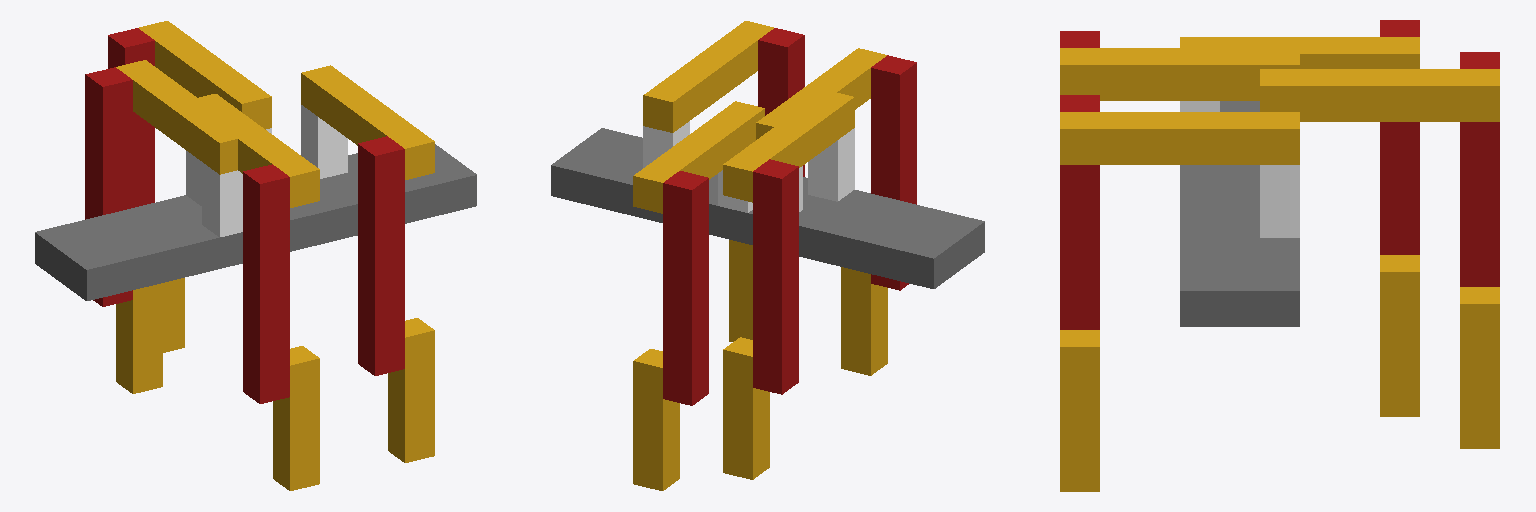
robot.urdf — v0:
<?xml version="1.0" encoding="utf-8"?>
<!-- =================================================================================== -->
<!-- |    This document was autogenerated by xacro from ../robots/v0variants/xacros/v0_4l_29.xacro | -->
<!-- |    EDITING THIS FILE BY HAND IS NOT RECOMMENDED                                 | -->
<!-- =================================================================================== -->
<robot name="v0">
  <material name="grey">
    <color rgba="0.5 0.5 0.5 1"/>
  </material>
  <material name="white">
    <color rgba="1 1 1 1"/>
  </material>
  <material name="yellow">
    <color rgba="0.91 0.7 0.14 1"/>
  </material>
  <material name="red">
    <color rgba="0.71 0.14 0.14 1"/>
  </material>
  <link name="body">
    <visual>
      <geometry>
        <box size="1.3 0.3 0.1"/>
      </geometry>
      <material name="grey"/>
      <origin rpy="0 0 0" xyz="0 0 0.7"/>
    </visual>
    <collision>
      <geometry>
        <box size="1.3 0.3 0.1"/>
      </geometry>
      <origin rpy="0 0 0" xyz="0 0 0.7"/>
    </collision>
    <inertial>
      <mass value="99.84"/>
      <inertia ixx="0.832" ixy="0.0" ixz="0.0" iyy="14.144" iyz="0.0" izz="14.8096"/>
    </inertial>
  </link>
  <link name="l1_segment_1">
    <visual>
      <geometry>
        <box size="0.1 0.1 0.2"/>
      </geometry>
      <material name="white"/>
      <origin rpy="0 0 0" xyz="0 0 0.1"/>
    </visual>
    <collision>
      <geometry>
        <box size="0.1 0.1 0.2"/>
      </geometry>
      <origin rpy="0 0 0" xyz="0 0 0.1"/>
    </collision>
    <inertial>
      <mass value="5.12"/>
      <inertia ixx="0.0213333333333" ixy="0.0" ixz="0.0" iyy="0.0213333333333" iyz="0.0" izz="0.00853333333333"/>
    </inertial>
  </link>
  <joint name="l1_base_to_joint_1" type="fixed">
    <parent link="body"/>
    <child link="l1_segment_1"/>
    <origin rpy="0 0 0" xyz="-0.15754305093310222 -0.1 0.75"/>
  </joint>
  <link name="l1_segment_2_HIP">
    <visual>
      <geometry>
        <box size="0.1 0.6 0.1"/>
      </geometry>
      <material name="yellow"/>
      <origin rpy="0 0 0" xyz="0 0.25 0"/>
    </visual>
    <collision>
      <geometry>
        <box size="0.1 0.6 0.1"/>
      </geometry>
      <origin rpy="0 0 0" xyz="0 0.25 0"/>
    </collision>
    <inertial>
      <mass value="15.36"/>
      <inertia ixx="0.4736" ixy="0.0" ixz="0.0" iyy="0.0256" iyz="0.0" izz="0.4736"/>
    </inertial>
  </link>
  <joint name="l1_joint_1_to_2" type="revolute">
    <parent link="l1_segment_1"/>
    <child link="l1_segment_2_HIP"/>
    <origin rpy="0 0 0" xyz="0 0 0.25"/>
    <axis xyz="0.0 0.0 1.0"/>
    <limit effort="2048" lower="-1.2" upper="1.2" velocity="20"/>
  </joint>
  <link name="l1_segment_3_THIGH">
    <visual>
      <geometry>
        <box size="0.1 0.1 0.7"/>
      </geometry>
      <material name="red"/>
      <origin rpy="0 0 0" xyz="0 0 -0.3"/>
    </visual>
    <collision>
      <geometry>
        <box size="0.1 0.1 0.7"/>
      </geometry>
      <origin rpy="0 0 0" xyz="0 0 -0.3"/>
    </collision>
    <inertial>
      <mass value="17.92"/>
      <inertia ixx="0.746666666667" ixy="0.0" ixz="0.0" iyy="0.746666666667" iyz="0.0" izz="0.0298666666667"/>
    </inertial>
  </link>
  <joint name="l1_joint_2_to_3" type="revolute">
    <parent link="l1_segment_2_HIP"/>
    <child link="l1_segment_3_THIGH"/>
    <origin rpy="0 0 0" xyz="-0.1 0.5 0"/>
    <axis xyz="1.0 0.0 0.0"/>
    <limit effort="2048" lower="-0.2" upper="0.75" velocity="20"/>
  </joint>
  <link name="l1_segment_4_FOOT">
    <visual>
      <geometry>
        <box size="0.1 0.1 0.4"/>
      </geometry>
      <material name="yellow"/>
      <origin rpy="0 0 0" xyz="0 0 -0.2"/>
    </visual>
    <collision>
      <geometry>
        <box size="0.1 0.1 0.4"/>
      </geometry>
      <origin rpy="0 0 0" xyz="0 0 -0.2"/>
    </collision>
    <inertial>
      <mass value="10.24"/>
      <inertia ixx="0.145066666667" ixy="0.0" ixz="0.0" iyy="0.145066666667" iyz="0.0" izz="0.0170666666667"/>
    </inertial>
  </link>
  <joint name="l1_joint_3_to_4_FOOT" type="revolute">
    <parent link="l1_segment_3_THIGH"/>
    <child link="l1_segment_4_FOOT"/>
    <origin rpy="0 0 0" xyz="0.1 0 -0.55"/>
    <axis xyz="1.0 0.0 0.0"/>
    <limit effort="2048" lower="-0.2" upper="0.5" velocity="20"/>
  </joint>
  <link name="r2_segment_1">
    <visual>
      <geometry>
        <box size="0.1 0.1 0.2"/>
      </geometry>
      <material name="white"/>
      <origin rpy="0 0 0" xyz="0 0 0.1"/>
    </visual>
    <collision>
      <geometry>
        <box size="0.1 0.1 0.2"/>
      </geometry>
      <origin rpy="0 0 0" xyz="0 0 0.1"/>
    </collision>
    <inertial>
      <mass value="5.12"/>
      <inertia ixx="0.0213333333333" ixy="0.0" ixz="0.0" iyy="0.0213333333333" iyz="0.0" izz="0.00853333333333"/>
    </inertial>
  </link>
  <joint name="r2_base_to_joint_1" type="fixed">
    <parent link="body"/>
    <child link="r2_segment_1"/>
    <origin rpy="0 0 0" xyz="-0.09649514545152094 0.1 0.75"/>
  </joint>
  <link name="r2_segment_2_HIP">
    <visual>
      <geometry>
        <box size="0.1 0.6 0.1"/>
      </geometry>
      <material name="yellow"/>
      <origin rpy="0 0 0" xyz="0 -0.25 0"/>
    </visual>
    <collision>
      <geometry>
        <box size="0.1 0.6 0.1"/>
      </geometry>
      <origin rpy="0 0 0" xyz="0 -0.25 0"/>
    </collision>
    <inertial>
      <mass value="15.36"/>
      <inertia ixx="0.4736" ixy="0.0" ixz="0.0" iyy="0.0256" iyz="0.0" izz="0.4736"/>
    </inertial>
  </link>
  <joint name="r2_joint_1_to_2" type="revolute">
    <parent link="r2_segment_1"/>
    <child link="r2_segment_2_HIP"/>
    <origin rpy="0 0 0" xyz="0 0 0.25"/>
    <axis xyz="0.0 0.0 1.0"/>
    <limit effort="2048" lower="-1.2" upper="1.2" velocity="20"/>
  </joint>
  <link name="r2_segment_3_THIGH">
    <visual>
      <geometry>
        <box size="0.1 0.1 0.7"/>
      </geometry>
      <material name="red"/>
      <origin rpy="0 0 0" xyz="0 0 -0.3"/>
    </visual>
    <collision>
      <geometry>
        <box size="0.1 0.1 0.7"/>
      </geometry>
      <origin rpy="0 0 0" xyz="0 0 -0.3"/>
    </collision>
    <inertial>
      <mass value="17.92"/>
      <inertia ixx="0.746666666667" ixy="0.0" ixz="0.0" iyy="0.746666666667" iyz="0.0" izz="0.0298666666667"/>
    </inertial>
  </link>
  <joint name="r2_joint_2_to_3" type="revolute">
    <parent link="r2_segment_2_HIP"/>
    <child link="r2_segment_3_THIGH"/>
    <origin rpy="0 0 0" xyz="-0.1 -0.5 0"/>
    <axis xyz="1.0 0.0 0.0"/>
    <limit effort="2048" lower="-0.75" upper="0.2" velocity="20"/>
  </joint>
  <link name="r2_segment_4_FOOT">
    <visual>
      <geometry>
        <box size="0.1 0.1 0.4"/>
      </geometry>
      <material name="yellow"/>
      <origin rpy="0 0 0" xyz="0 0 -0.2"/>
    </visual>
    <collision>
      <geometry>
        <box size="0.1 0.1 0.4"/>
      </geometry>
      <origin rpy="0 0 0" xyz="0 0 -0.2"/>
    </collision>
    <inertial>
      <mass value="10.24"/>
      <inertia ixx="0.145066666667" ixy="0.0" ixz="0.0" iyy="0.145066666667" iyz="0.0" izz="0.0170666666667"/>
    </inertial>
  </link>
  <joint name="r2_joint_3_to_4_FOOT" type="revolute">
    <parent link="r2_segment_3_THIGH"/>
    <child link="r2_segment_4_FOOT"/>
    <origin rpy="0 0 0" xyz="0.1 0 -0.55"/>
    <axis xyz="1.0 0.0 0.0"/>
    <limit effort="2048" lower="-0.5" upper="0.2" velocity="20"/>
  </joint>
  <link name="l3_segment_1">
    <visual>
      <geometry>
        <box size="0.1 0.1 0.2"/>
      </geometry>
      <material name="white"/>
      <origin rpy="0 0 0" xyz="0 0 0.1"/>
    </visual>
    <collision>
      <geometry>
        <box size="0.1 0.1 0.2"/>
      </geometry>
      <origin rpy="0 0 0" xyz="0 0 0.1"/>
    </collision>
    <inertial>
      <mass value="5.12"/>
      <inertia ixx="0.0213333333333" ixy="0.0" ixz="0.0" iyy="0.0213333333333" iyz="0.0" izz="0.00853333333333"/>
    </inertial>
  </link>
  <joint name="l3_base_to_joint_1" type="fixed">
    <parent link="body"/>
    <child link="l3_segment_1"/>
    <origin rpy="0 0 0" xyz="0.03155107960996914 0.1 0.75"/>
  </joint>
  <link name="l3_segment_2_HIP">
    <visual>
      <geometry>
        <box size="0.1 0.6 0.1"/>
      </geometry>
      <material name="yellow"/>
      <origin rpy="0 0 0" xyz="0 0.25 0"/>
    </visual>
    <collision>
      <geometry>
        <box size="0.1 0.6 0.1"/>
      </geometry>
      <origin rpy="0 0 0" xyz="0 0.25 0"/>
    </collision>
    <inertial>
      <mass value="15.36"/>
      <inertia ixx="0.4736" ixy="0.0" ixz="0.0" iyy="0.0256" iyz="0.0" izz="0.4736"/>
    </inertial>
  </link>
  <joint name="l3_joint_1_to_2" type="revolute">
    <parent link="l3_segment_1"/>
    <child link="l3_segment_2_HIP"/>
    <origin rpy="0 0 0" xyz="0 0 0.25"/>
    <axis xyz="0.0 0.0 1.0"/>
    <limit effort="2048" lower="-1.2" upper="1.2" velocity="20"/>
  </joint>
  <link name="l3_segment_3_THIGH">
    <visual>
      <geometry>
        <box size="0.1 0.1 0.7"/>
      </geometry>
      <material name="red"/>
      <origin rpy="0 0 0" xyz="0 0 -0.3"/>
    </visual>
    <collision>
      <geometry>
        <box size="0.1 0.1 0.7"/>
      </geometry>
      <origin rpy="0 0 0" xyz="0 0 -0.3"/>
    </collision>
    <inertial>
      <mass value="17.92"/>
      <inertia ixx="0.746666666667" ixy="0.0" ixz="0.0" iyy="0.746666666667" iyz="0.0" izz="0.0298666666667"/>
    </inertial>
  </link>
  <joint name="l3_joint_2_to_3" type="revolute">
    <parent link="l3_segment_2_HIP"/>
    <child link="l3_segment_3_THIGH"/>
    <origin rpy="0 0 0" xyz="-0.1 0.5 0"/>
    <axis xyz="1.0 0.0 0.0"/>
    <limit effort="2048" lower="-0.2" upper="0.75" velocity="20"/>
  </joint>
  <link name="l3_segment_4_FOOT">
    <visual>
      <geometry>
        <box size="0.1 0.1 0.4"/>
      </geometry>
      <material name="yellow"/>
      <origin rpy="0 0 0" xyz="0 0 -0.2"/>
    </visual>
    <collision>
      <geometry>
        <box size="0.1 0.1 0.4"/>
      </geometry>
      <origin rpy="0 0 0" xyz="0 0 -0.2"/>
    </collision>
    <inertial>
      <mass value="10.24"/>
      <inertia ixx="0.145066666667" ixy="0.0" ixz="0.0" iyy="0.145066666667" iyz="0.0" izz="0.0170666666667"/>
    </inertial>
  </link>
  <joint name="l3_joint_3_to_4_FOOT" type="revolute">
    <parent link="l3_segment_3_THIGH"/>
    <child link="l3_segment_4_FOOT"/>
    <origin rpy="0 0 0" xyz="0.1 0 -0.55"/>
    <axis xyz="1.0 0.0 0.0"/>
    <limit effort="2048" lower="-0.2" upper="0.5" velocity="20"/>
  </joint>
  <link name="r4_segment_1">
    <visual>
      <geometry>
        <box size="0.1 0.1 0.2"/>
      </geometry>
      <material name="white"/>
      <origin rpy="0 0 0" xyz="0 0 0.1"/>
    </visual>
    <collision>
      <geometry>
        <box size="0.1 0.1 0.2"/>
      </geometry>
      <origin rpy="0 0 0" xyz="0 0 0.1"/>
    </collision>
    <inertial>
      <mass value="5.12"/>
      <inertia ixx="0.0213333333333" ixy="0.0" ixz="0.0" iyy="0.0213333333333" iyz="0.0" izz="0.00853333333333"/>
    </inertial>
  </link>
  <joint name="r4_base_to_joint_1" type="fixed">
    <parent link="body"/>
    <child link="r4_segment_1"/>
    <origin rpy="0 0 0" xyz="0.28586735093128834 0.1 0.75"/>
  </joint>
  <link name="r4_segment_2_HIP">
    <visual>
      <geometry>
        <box size="0.1 0.6 0.1"/>
      </geometry>
      <material name="yellow"/>
      <origin rpy="0 0 0" xyz="0 -0.25 0"/>
    </visual>
    <collision>
      <geometry>
        <box size="0.1 0.6 0.1"/>
      </geometry>
      <origin rpy="0 0 0" xyz="0 -0.25 0"/>
    </collision>
    <inertial>
      <mass value="15.36"/>
      <inertia ixx="0.4736" ixy="0.0" ixz="0.0" iyy="0.0256" iyz="0.0" izz="0.4736"/>
    </inertial>
  </link>
  <joint name="r4_joint_1_to_2" type="revolute">
    <parent link="r4_segment_1"/>
    <child link="r4_segment_2_HIP"/>
    <origin rpy="0 0 0" xyz="0 0 0.25"/>
    <axis xyz="0.0 0.0 1.0"/>
    <limit effort="2048" lower="-1.2" upper="1.2" velocity="20"/>
  </joint>
  <link name="r4_segment_3_THIGH">
    <visual>
      <geometry>
        <box size="0.1 0.1 0.7"/>
      </geometry>
      <material name="red"/>
      <origin rpy="0 0 0" xyz="0 0 -0.3"/>
    </visual>
    <collision>
      <geometry>
        <box size="0.1 0.1 0.7"/>
      </geometry>
      <origin rpy="0 0 0" xyz="0 0 -0.3"/>
    </collision>
    <inertial>
      <mass value="17.92"/>
      <inertia ixx="0.746666666667" ixy="0.0" ixz="0.0" iyy="0.746666666667" iyz="0.0" izz="0.0298666666667"/>
    </inertial>
  </link>
  <joint name="r4_joint_2_to_3" type="revolute">
    <parent link="r4_segment_2_HIP"/>
    <child link="r4_segment_3_THIGH"/>
    <origin rpy="0 0 0" xyz="-0.1 -0.5 0"/>
    <axis xyz="1.0 0.0 0.0"/>
    <limit effort="2048" lower="-0.75" upper="0.2" velocity="20"/>
  </joint>
  <link name="r4_segment_4_FOOT">
    <visual>
      <geometry>
        <box size="0.1 0.1 0.4"/>
      </geometry>
      <material name="yellow"/>
      <origin rpy="0 0 0" xyz="0 0 -0.2"/>
    </visual>
    <collision>
      <geometry>
        <box size="0.1 0.1 0.4"/>
      </geometry>
      <origin rpy="0 0 0" xyz="0 0 -0.2"/>
    </collision>
    <inertial>
      <mass value="10.24"/>
      <inertia ixx="0.145066666667" ixy="0.0" ixz="0.0" iyy="0.145066666667" iyz="0.0" izz="0.0170666666667"/>
    </inertial>
  </link>
  <joint name="r4_joint_3_to_4_FOOT" type="revolute">
    <parent link="r4_segment_3_THIGH"/>
    <child link="r4_segment_4_FOOT"/>
    <origin rpy="0 0 0" xyz="0.1 0 -0.55"/>
    <axis xyz="1.0 0.0 0.0"/>
    <limit effort="2048" lower="-0.5" upper="0.2" velocity="20"/>
  </joint>
</robot>

--- Render facts (derived) ---
3 views of the same robot in one strip: view 1: azimuth 30°, elevation 25°; view 2: azimuth 150°, elevation 25°; view 3: azimuth 270°, elevation 25° (orthographic).
Robot: v0 — 17 links, 16 joints (12 revolute, 4 fixed); root link body; default pose: all joints at 0.
Visible links, largest first — view 1: body, r2_segment_3_THIGH, r4_segment_3_THIGH, l1_segment_3_THIGH, r4_segment_2_HIP, l1_segment_2_HIP, r2_segment_4_FOOT, r4_segment_4_FOOT, l3_segment_2_HIP, l1_segment_4_FOOT, r2_segment_2_HIP, l3_segment_3_THIGH (+4 smaller); view 2: body, l1_segment_3_THIGH, l3_segment_3_THIGH, r2_segment_3_THIGH, r4_segment_2_HIP, l1_segment_2_HIP, l3_segment_2_HIP, l1_segment_4_FOOT, l3_segment_4_FOOT, r2_segment_4_FOOT, r4_segment_3_THIGH, r2_segment_2_HIP (+3 smaller); view 3: body, r4_segment_2_HIP, l3_segment_2_HIP, r2_segment_2_HIP, l3_segment_3_THIGH, r4_segment_3_THIGH, l1_segment_4_FOOT, l3_segment_4_FOOT, r4_segment_4_FOOT, l1_segment_3_THIGH, l1_segment_2_HIP, r4_segment_1 (+1 smaller).
Link boxes in pixels (left/top/right/bottom): body: left=35, top=144, right=476, bottom=300; r2_segment_3_THIGH: left=243, top=164, right=289, bottom=403; r4_segment_3_THIGH: left=358, top=136, right=404, bottom=375; l1_segment_3_THIGH: left=85, top=67, right=132, bottom=306; r4_segment_2_HIP: left=301, top=65, right=434, bottom=179; l1_segment_2_HIP: left=116, top=60, right=237, bottom=174; r2_segment_4_FOOT: left=273, top=346, right=319, bottom=490; r4_segment_4_FOOT: left=388, top=318, right=434, bottom=462; l3_segment_2_HIP: left=139, top=21, right=271, bottom=129; l1_segment_4_FOOT: left=116, top=283, right=162, bottom=393; r2_segment_2_HIP: left=187, top=94, right=319, bottom=207; l3_segment_3_THIGH: left=108, top=28, right=154, bottom=207; body: left=551, top=128, right=984, bottom=288; l1_segment_3_THIGH: left=753, top=159, right=798, bottom=394; l3_segment_3_THIGH: left=663, top=171, right=708, bottom=405; r2_segment_3_THIGH: left=871, top=55, right=916, bottom=290; r4_segment_2_HIP: left=643, top=21, right=773, bottom=132; l1_segment_2_HIP: left=723, top=90, right=854, bottom=202; l3_segment_2_HIP: left=633, top=101, right=764, bottom=213; l1_segment_4_FOOT: left=723, top=337, right=769, bottom=479; l3_segment_4_FOOT: left=633, top=349, right=679, bottom=490; r2_segment_4_FOOT: left=841, top=267, right=887, bottom=375; r4_segment_3_THIGH: left=758, top=28, right=804, bottom=176; r2_segment_2_HIP: left=756, top=48, right=886, bottom=139; body: left=1180, top=101, right=1299, bottom=326; r4_segment_2_HIP: left=1060, top=112, right=1299, bottom=164; l3_segment_2_HIP: left=1260, top=69, right=1499, bottom=121; r2_segment_2_HIP: left=1060, top=48, right=1299, bottom=100; l3_segment_3_THIGH: left=1460, top=52, right=1499, bottom=286; r4_segment_3_THIGH: left=1060, top=95, right=1099, bottom=329; l1_segment_4_FOOT: left=1380, top=255, right=1419, bottom=416; l3_segment_4_FOOT: left=1460, top=287, right=1499, bottom=448; r4_segment_4_FOOT: left=1060, top=330, right=1099, bottom=491; l1_segment_3_THIGH: left=1380, top=20, right=1419, bottom=254; l1_segment_2_HIP: left=1180, top=37, right=1419, bottom=68; r4_segment_1: left=1260, top=165, right=1299, bottom=237.
Bounding box of the posed robot: 1.3 × 1.1 × 1 m (x, y, z).
Geometry: primitives only (box / cylinder / sphere), no mesh files.